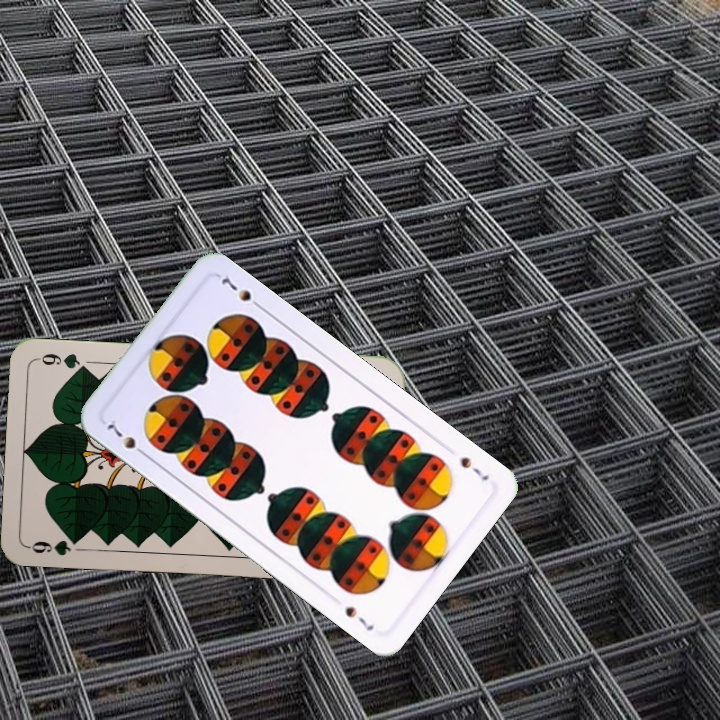G9: (25, 533, 84, 558)
S7: (103, 420, 150, 460), (456, 452, 492, 484)
